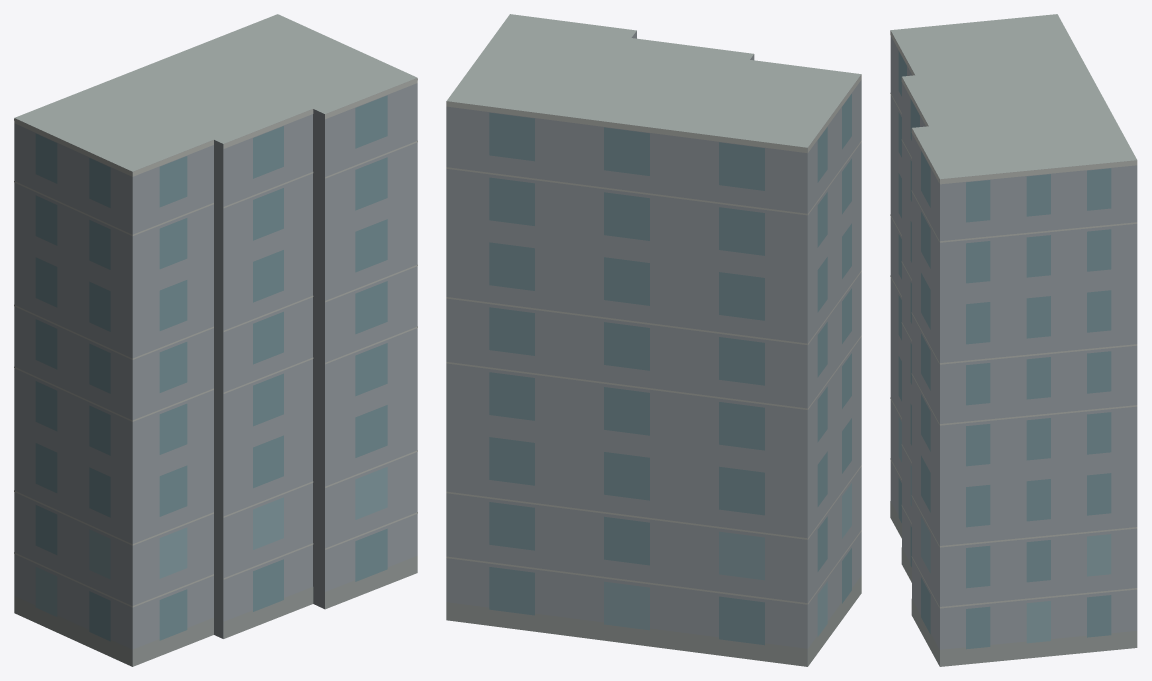
Rendered from survey-upis-32802178.glb.
3 renders of one model, left to right at view 1: azimuth 30°, elevation 25°; view 2: azimuth 150°, elevation 25°; view 3: azimuth 270°, elevation 25°, orthographic. The views are drawn at different scales.
Visible parts, largest first — view 1: survey-upis-32802178.tmp; view 2: survey-upis-32802178.tmp; view 3: survey-upis-32802178.tmp.
Part boxes in pixels (x1,y1,x2,y2): survey-upis-32802178.tmp: (14,14,417,666); survey-upis-32802178.tmp: (446,14,861,666); survey-upis-32802178.tmp: (890,14,1137,666).
Size of the model in its own units: 16.88 by 23.2 by 10.67.
